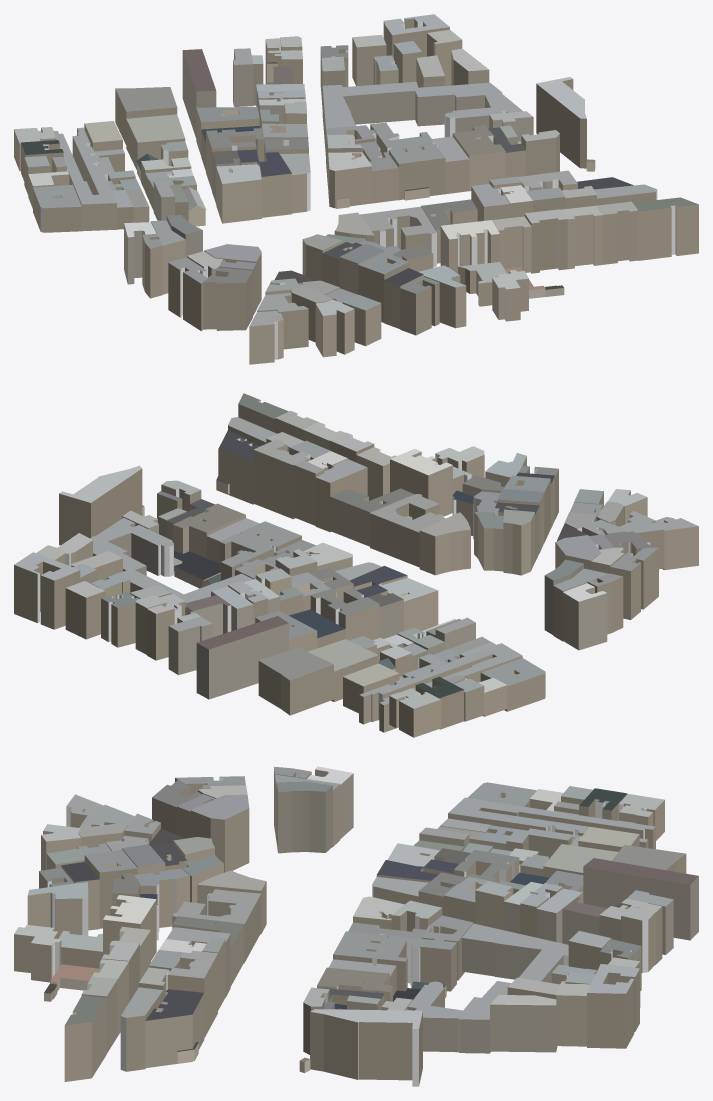
3 renders of one model, top to bottom at view 1: azimuth 30°, elevation 25°; view 2: azimuth 150°, elevation 25°; view 3: azimuth 270°, elevation 25°, orthographic. The views are drawn at different scales.
Visible parts, largest first — view 1: tuile; view 2: tuile; view 3: tuile.
Boxes of the visible parts, x1=… form: tuile: x1=14, y1=14, x2=698, y2=364; tuile: x1=14, y1=393, x2=698, y2=737; tuile: x1=14, y1=766, x2=698, y2=1086.
Size of the model in its own units: 272 by 38.58 by 280.
